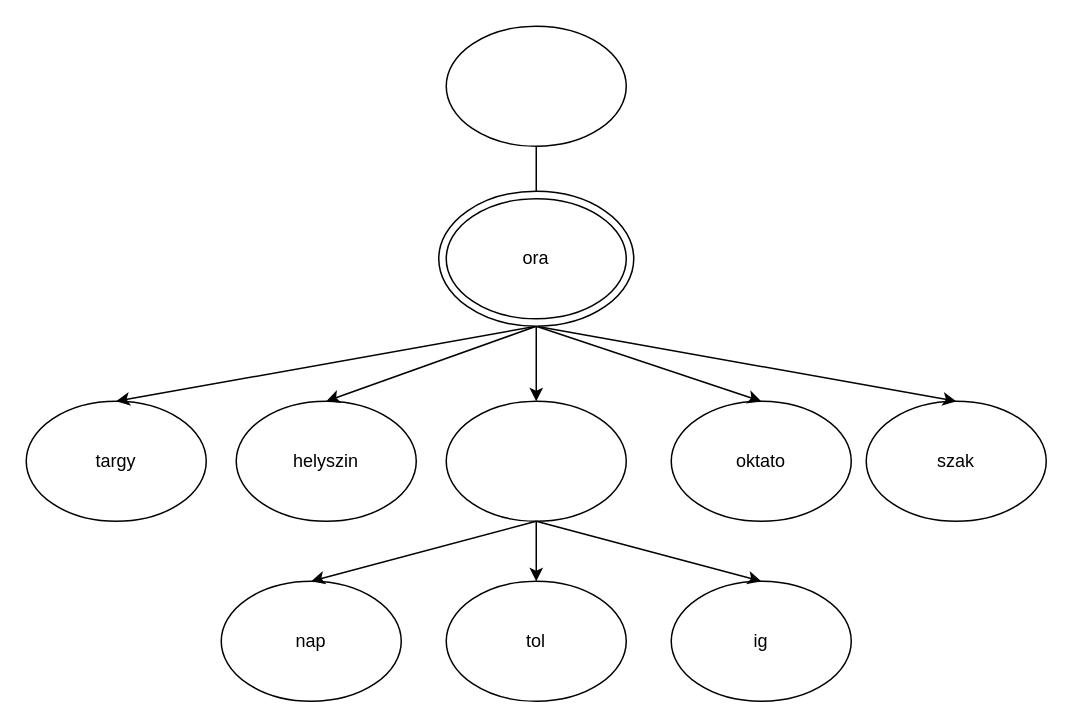
Image size: 1073x728. Some labels were removed from this diagram. Here are the shapes that lost their labels. From the top down, the box of each, then its label:
(445, 25, 626, 146): A86ANU_orarend
(445, 400, 626, 521): idopont
